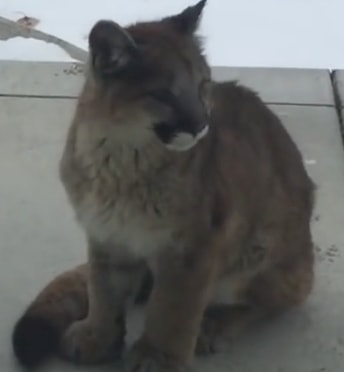Mountain Lion: (26, 18, 342, 360)
